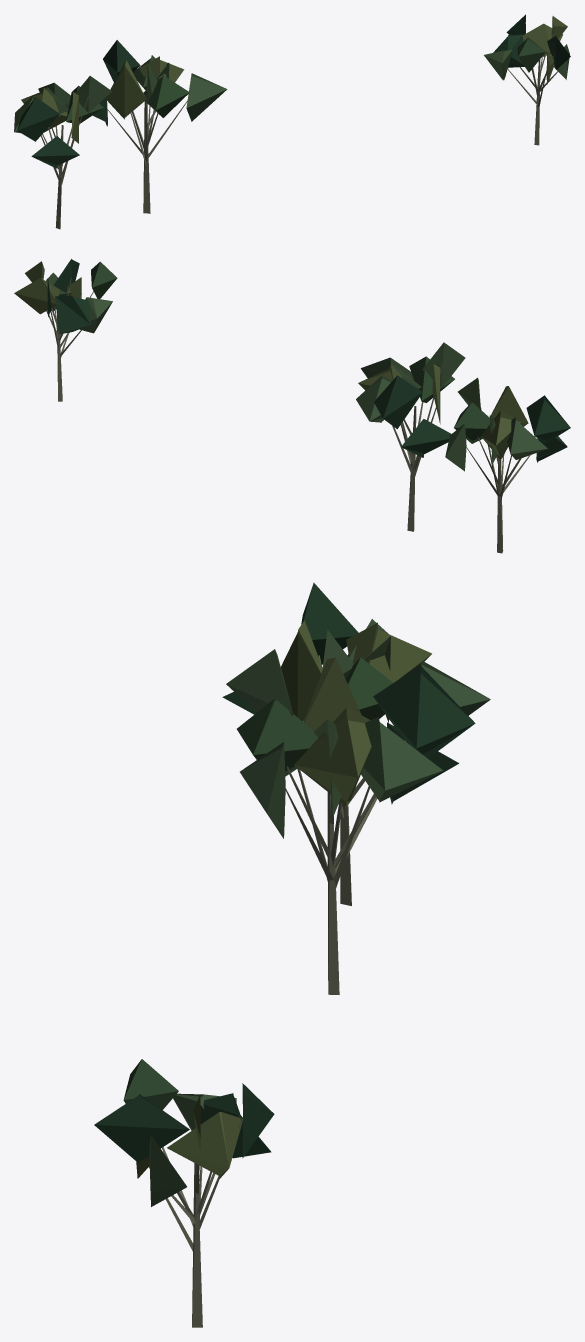
The model's file is forest_23_27.dae.
3 views of the same model, one above another, from view 1: azimuth 30°, elevation 25°; view 2: azimuth 150°, elevation 25°; view 3: azimuth 270°, elevation 25° (orthographic). The views are drawn at different scales.
Parts seen in each view (by area): view 1: Node; view 2: Node; view 3: Node.
Part boxes in pixels (x1,y1,x2,y2): Node: [14, 14, 570, 229]; Node: [14, 259, 570, 553]; Node: [94, 582, 490, 1327].
Size of the model in its own units: 9.67 by 3.15 by 2.89.
